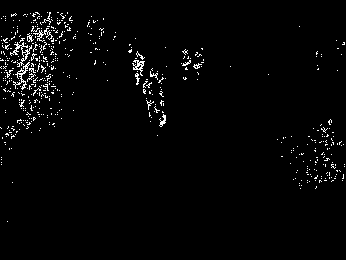person: (141, 66, 168, 129)
